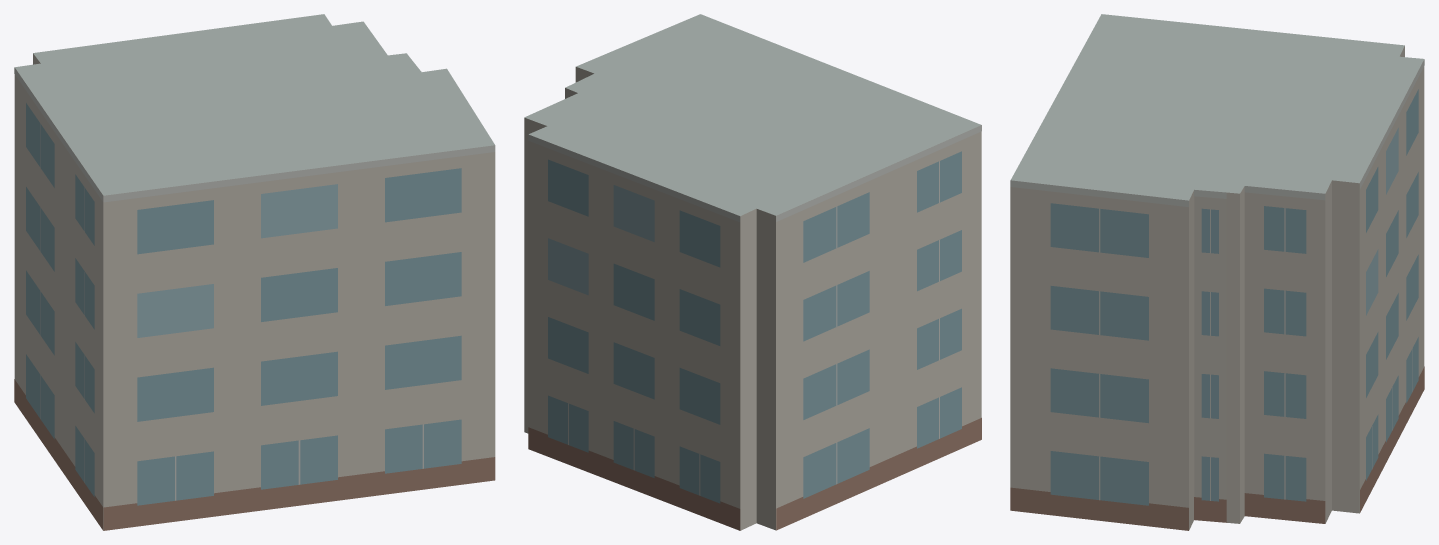
Rendered from survey-upis-32711809.glb.
The picture shows the model from 3 angles, left to right: view 1: azimuth 30°, elevation 25°; view 2: azimuth 150°, elevation 25°; view 3: azimuth 270°, elevation 25°; orthographic projection. The views are drawn at different scales.
Parts seen in each view (by area): view 1: survey-upis-32711809.tmp; view 2: survey-upis-32711809.tmp; view 3: survey-upis-32711809.tmp.
Boxes of the visible parts, x1,y1,x2,y2 form: survey-upis-32711809.tmp: (14, 14, 495, 530); survey-upis-32711809.tmp: (524, 14, 981, 530); survey-upis-32711809.tmp: (1010, 14, 1424, 530).
Bounding box in the file's own units: 14.79 × 12.2 × 13.87.
